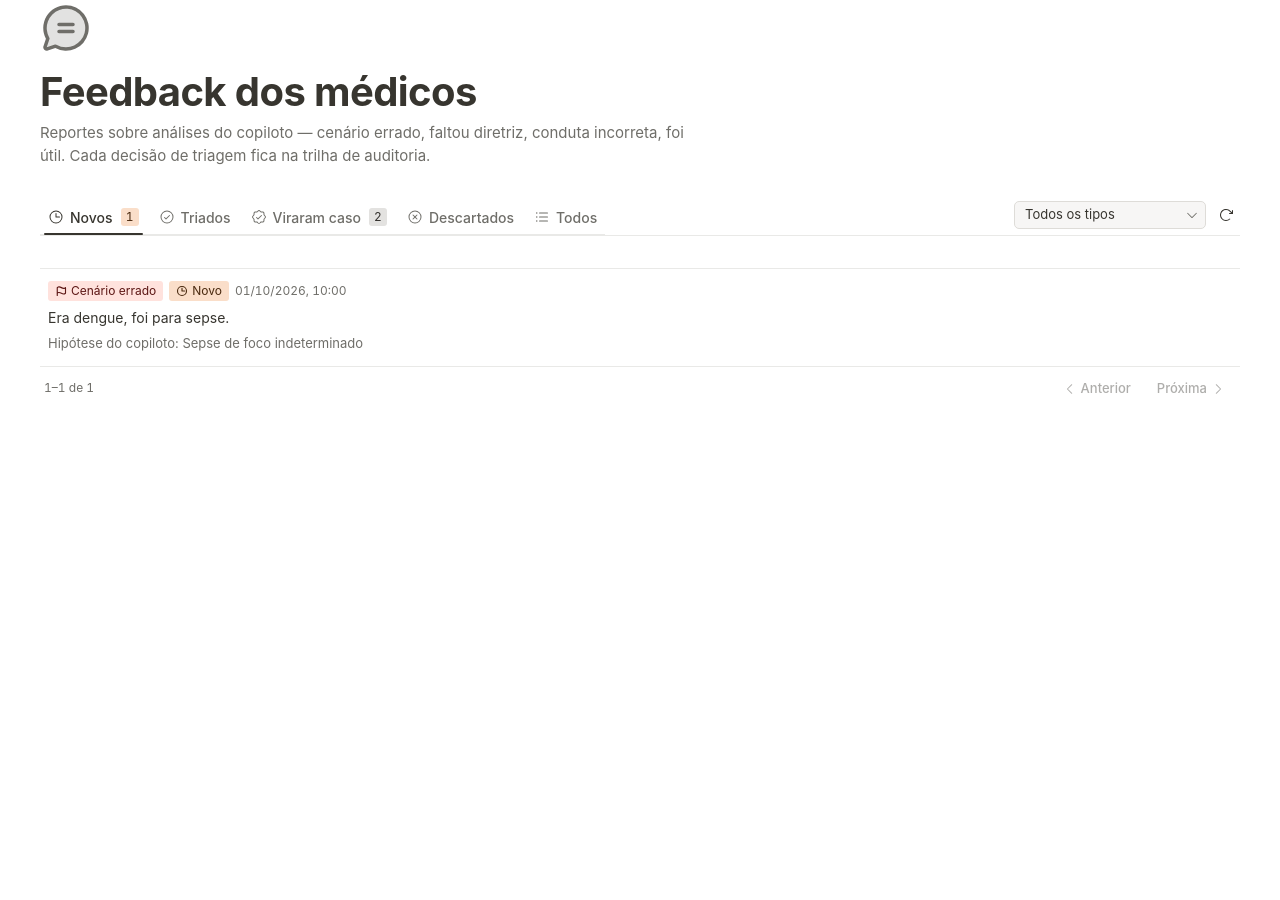
Test: Console admin — fila de triagem do feedback (F0-D) › opens a detail panel with the case as analysed, the output and the technical trace
The width and height of the screenshot is (1280, 900).
Click the button that starts with "Cenário errado" at (106, 291), box [40, 269, 1240, 366]
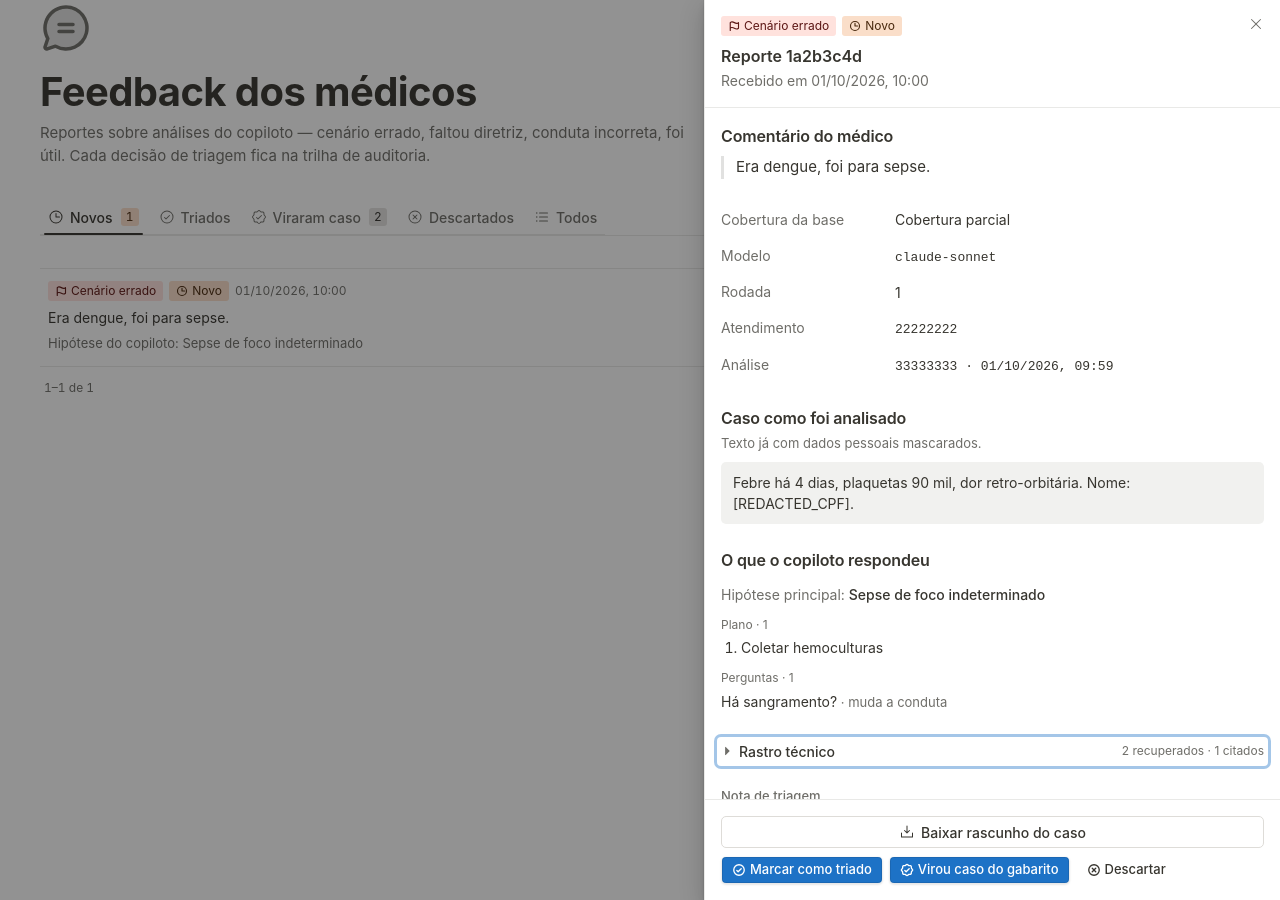
Expected: the text "Febre há 4 dias, plaquetas 90 mil, dor retro-orbitária. Nome: [REDACTED_CPF]." is shown, [721, 462, 1264, 524]
Expected: the list item "Coletar hemoculturas" is shown, [741, 639, 883, 656]
Expected: the text "Cobertura parcial" is shown, [895, 211, 1010, 228]
